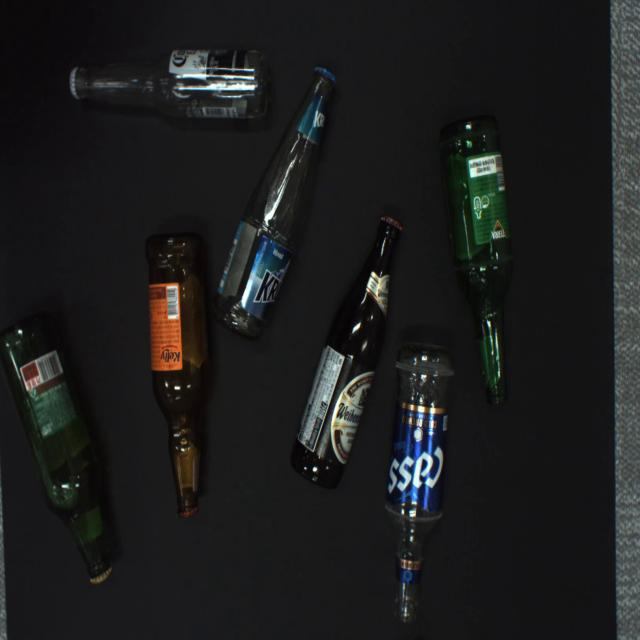beer-bottle: (211, 66, 337, 343), (291, 215, 403, 490), (0, 314, 113, 585), (439, 114, 513, 406), (385, 341, 455, 623), (145, 233, 212, 519), (69, 50, 271, 120)
